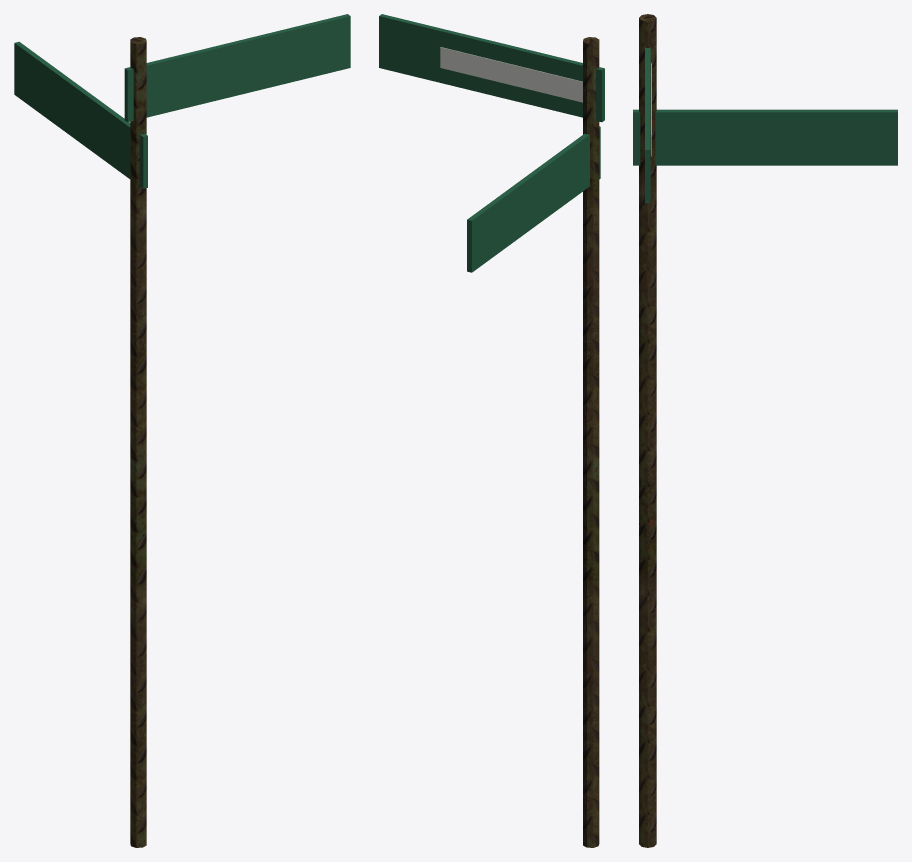
The model's file is prop_sign_street_name.gltf.
3 renders of one model, left to right at view 1: azimuth 30°, elevation 25°; view 2: azimuth 150°, elevation 25°; view 3: azimuth 270°, elevation 25°, orthographic. The views are drawn at different scales.
Parts seen in each view (by area): view 1: prop_sign_street_name; view 2: prop_sign_street_name; view 3: prop_sign_street_name.
Boxes of the visible parts, left/top/right/bottom form: prop_sign_street_name: left=14, top=14, right=350, bottom=847; prop_sign_street_name: left=379, top=14, right=604, bottom=847; prop_sign_street_name: left=633, top=14, right=897, bottom=847.
Size of what is drawn, in the model's own units: 0.9 by 3.1 by 0.9.
Materials: 3 (1 with a texture image).
